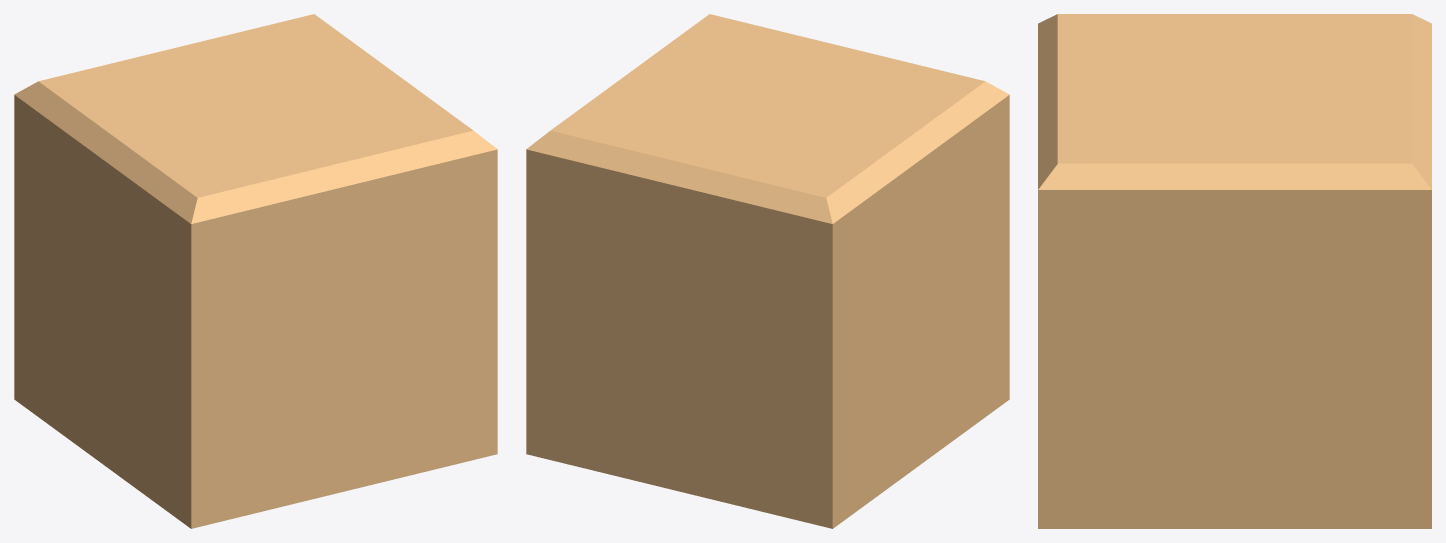
Rendered from 1x1 Floor.fbx.
3 views of the same model, side by side, from view 1: azimuth 30°, elevation 25°; view 2: azimuth 150°, elevation 25°; view 3: azimuth 270°, elevation 25° (orthographic). The views are drawn at different scales.
Visible parts, largest first — view 1: Cube; view 2: Cube; view 3: Cube.
Boxes of the visible parts, x1,y1,x2,y2 form: Cube: [14, 14, 497, 528]; Cube: [526, 14, 1009, 528]; Cube: [1038, 14, 1431, 528].
Size of the model in its own units: 100 by 100 by 100.
